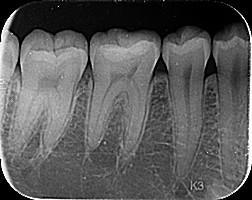individual-tooth-8tto: (7, 28, 88, 148), (88, 28, 163, 151), (159, 24, 210, 176), (211, 20, 250, 185)
